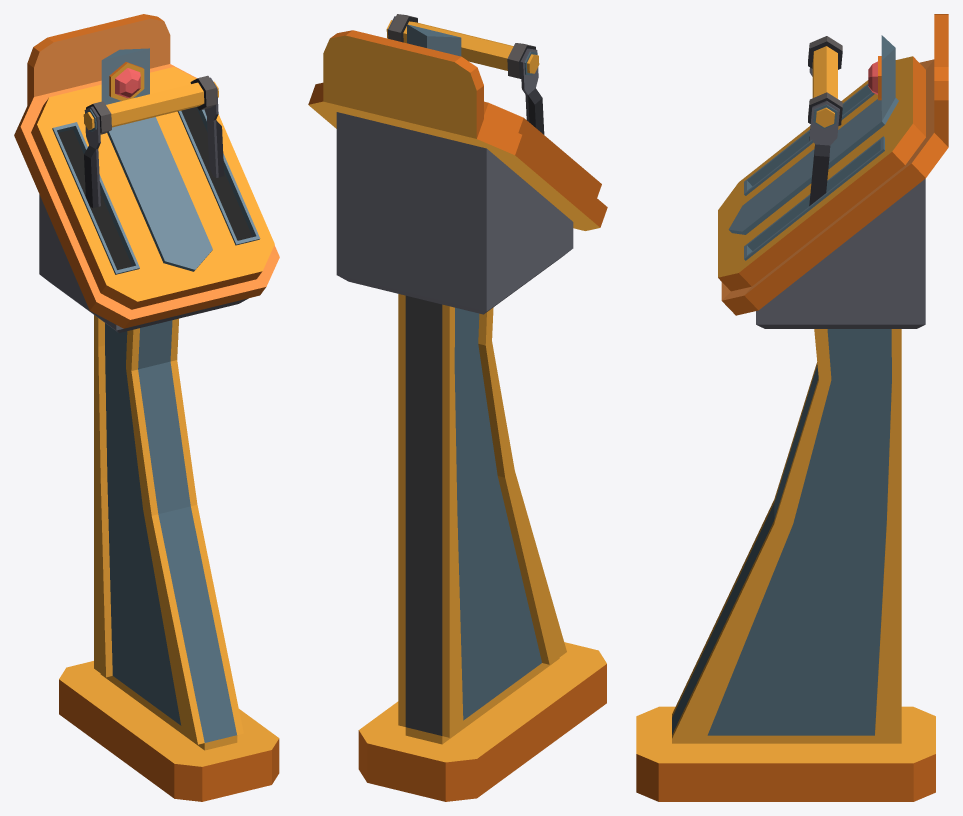
File: Lever_Console.glb
The picture shows the model from 3 angles, left to right: view 1: azimuth 30°, elevation 25°; view 2: azimuth 150°, elevation 25°; view 3: azimuth 270°, elevation 25°; orthographic projection. The views are drawn at different scales.
Parts seen in each view (by area): view 1: Lever_01, Lever_01.001; view 2: Lever_01, Lever_01.001; view 3: Lever_01, Lever_01.001.
Part boxes in pixels (x1=…): Lever_01: x1=14, y1=14, x2=279, y2=801; Lever_01.001: x1=83, y1=75, x2=224, y2=207; Lever_01: x1=308, y1=24, x2=607, y2=801; Lever_01.001: x1=386, y1=14, x2=544, y2=134; Lever_01: x1=636, y1=14, x2=948, y2=801; Lever_01.001: x1=808, y1=36, x2=842, y2=205.
Size of what is drawn, in the model's own units: 0.3532 by 1.22 by 0.4716.
Materials: 1 (1 with a texture image).
